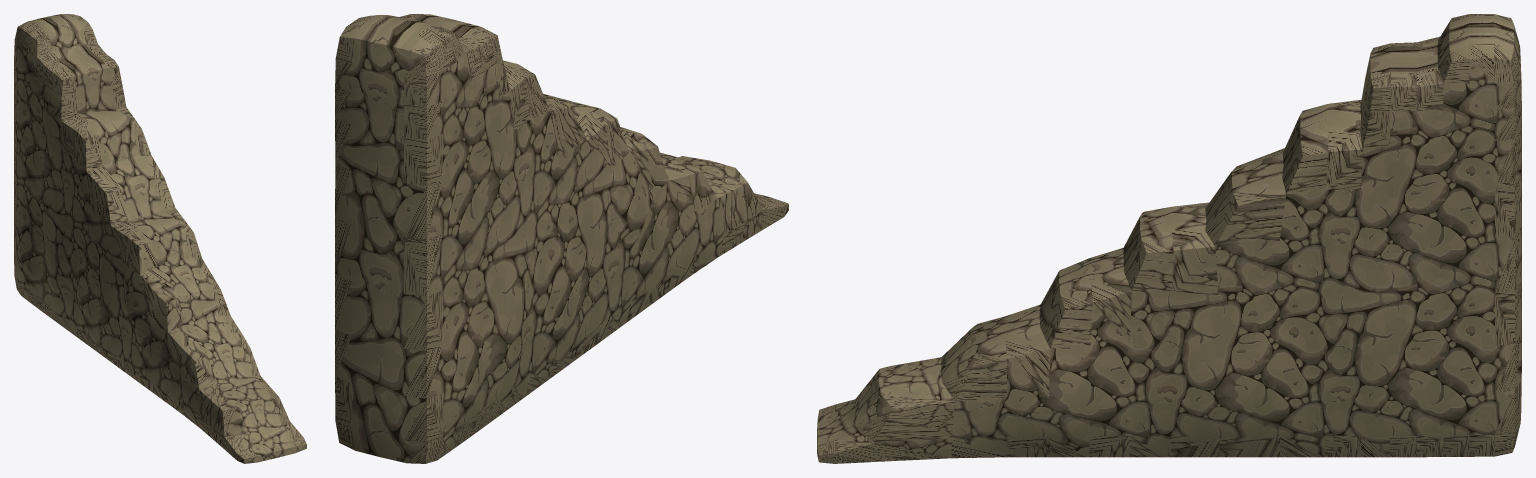
Rendered from Escada.fbx.
3 renders of one model, left to right at view 1: azimuth 30°, elevation 25°; view 2: azimuth 150°, elevation 25°; view 3: azimuth 270°, elevation 25°, orthographic. The views are drawn at different scales.
Parts seen in each view (by area): view 1: Cube.001; view 2: Cube.001; view 3: Cube.001.
Part boxes in pixels (left/top/right/bottom): Cube.001: left=14, top=14, right=306, bottom=463; Cube.001: left=335, top=14, right=788, bottom=463; Cube.001: left=817, top=14, right=1521, bottom=463.
Size of the model in its own units: 104 by 307 by 471.
